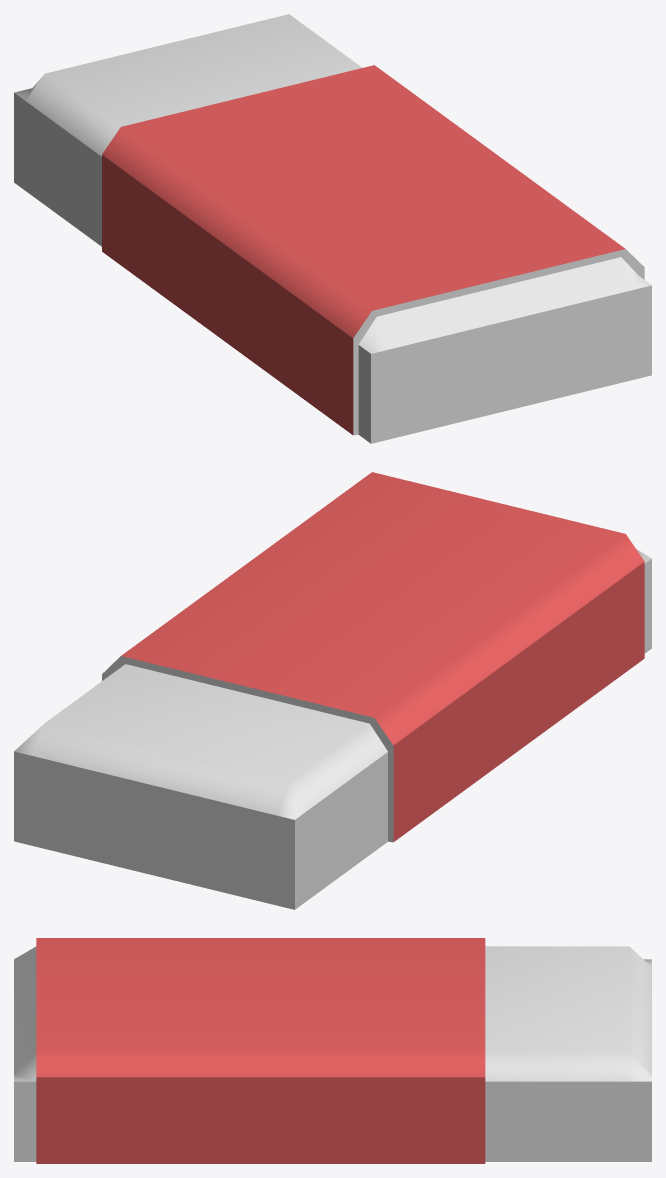
The model's file is Bed.fbx.
3 renders of one model, top to bottom at view 1: azimuth 30°, elevation 25°; view 2: azimuth 150°, elevation 25°; view 3: azimuth 270°, elevation 25°, orthographic. The views are drawn at different scales.
Parts seen in each view (by area): view 1: Bed; view 2: Bed; view 3: Bed.
Part boxes in pixels (x1,y1,x2,y2): Bed: (14, 14, 651, 443); Bed: (14, 472, 651, 909); Bed: (14, 938, 651, 1163).
Bounding box in the file's own units: 5.38 × 2.12 × 11.41.
